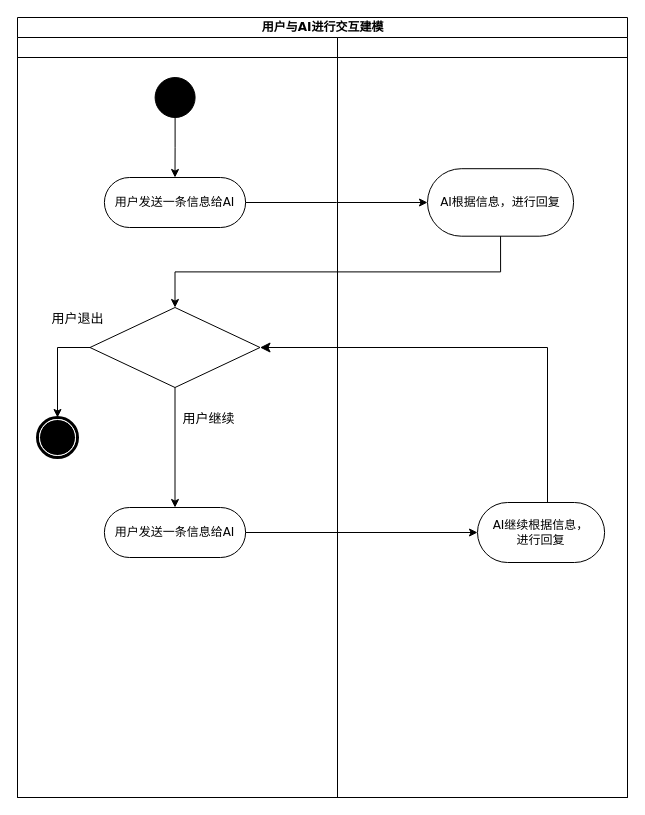
This 645x815 diagram has some shape labels left out. The shapes that lost their labels are listed below. From the top down, each one's box as (x1, y1, x2, y2) in pixels, then its label:
(89, 306, 260, 388): 用户选择是否继续发信息
(16, 36, 338, 798): 用户
(336, 36, 628, 798): AI系统
